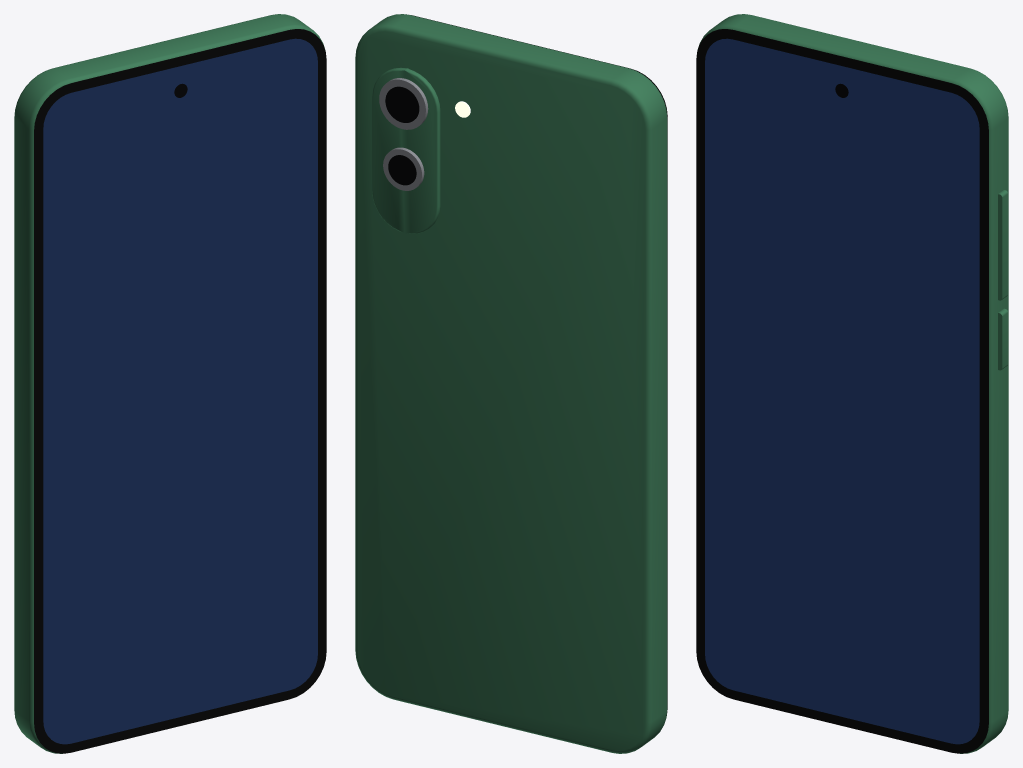
Rendered from nova-a5.glb.
3 views of the same model, side by side, from view 1: azimuth 30°, elevation 25°; view 2: azimuth 150°, elevation 25°; view 3: azimuth 330°, elevation 25° (orthographic).
Visible parts, largest first — view 1: nova-a5; view 2: nova-a5; view 3: nova-a5.
Boxes of the visible parts, box(x1,y1,x2,y2) form: nova-a5: box(14, 14, 326, 753); nova-a5: box(355, 14, 667, 753); nova-a5: box(696, 14, 1008, 753).
Bounding box in the file's own units: 0.0771 × 0.165 × 0.0116.
